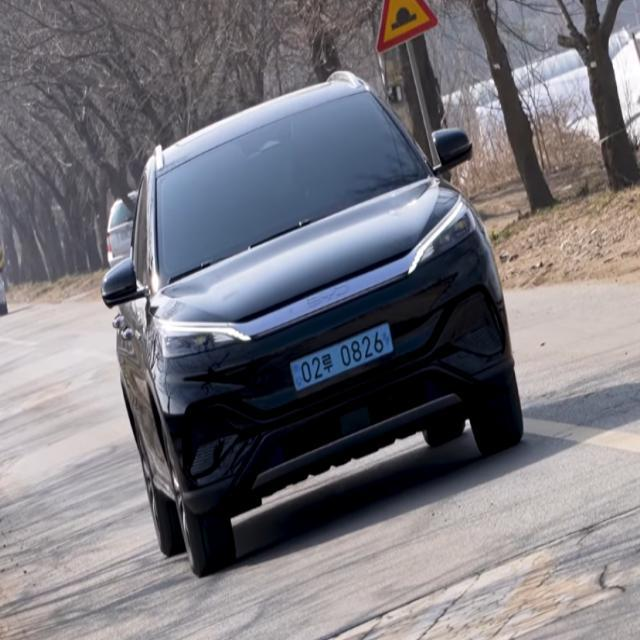car: (283, 312, 404, 403)
carev: (379, 322, 398, 359), (289, 358, 305, 397)
